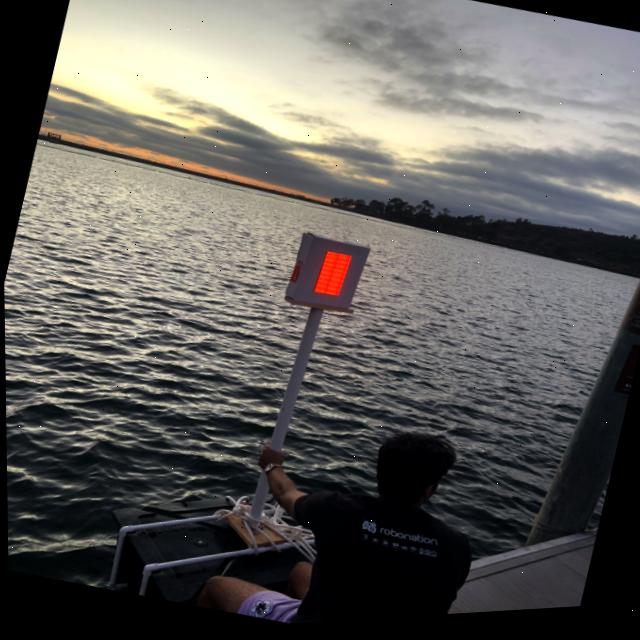led: (291, 234, 359, 317)
